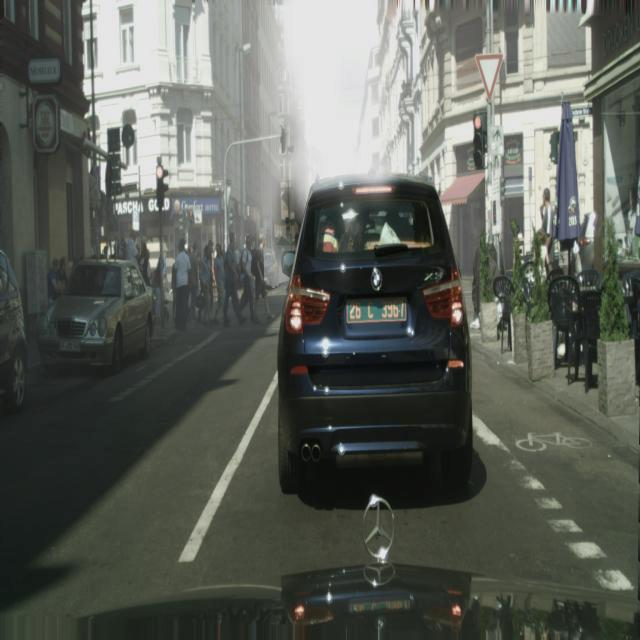person: (223, 231, 245, 326), (172, 238, 192, 329), (252, 238, 272, 319), (240, 235, 258, 324), (540, 188, 554, 268), (199, 246, 213, 324), (152, 249, 166, 326), (213, 243, 226, 325), (189, 244, 199, 321), (47, 256, 62, 303), (138, 236, 151, 286), (59, 257, 69, 288)
truck: (276, 173, 474, 499), (37, 256, 155, 376), (0, 250, 29, 412), (262, 249, 278, 289)
